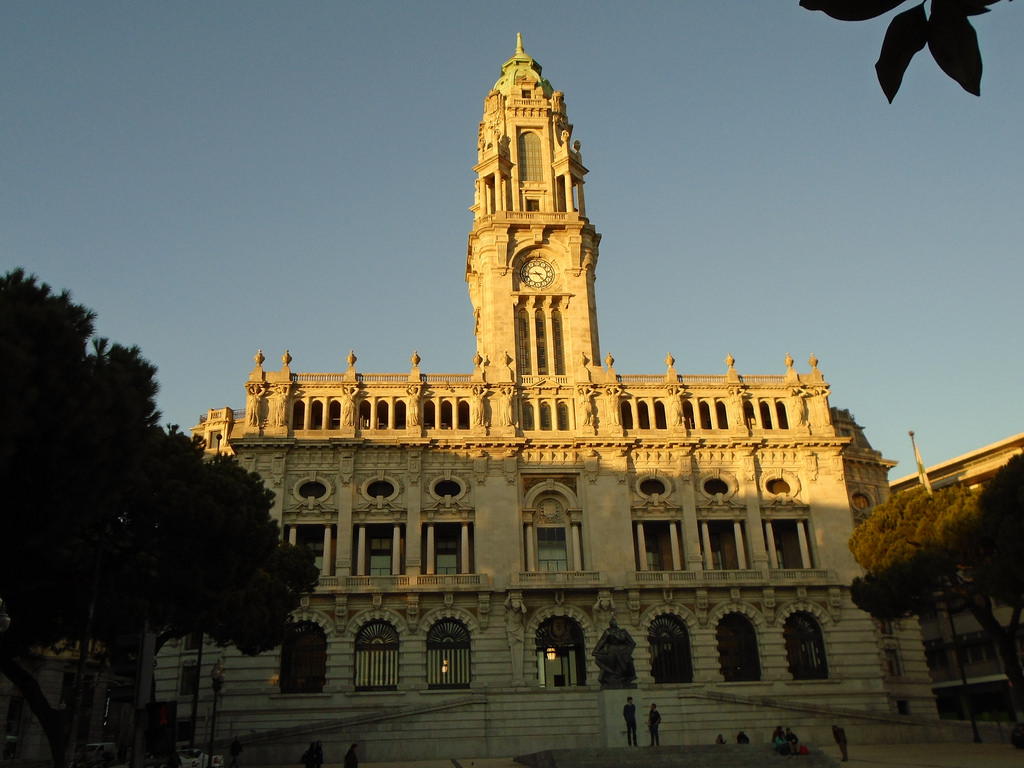camara: (150, 31, 942, 750)
